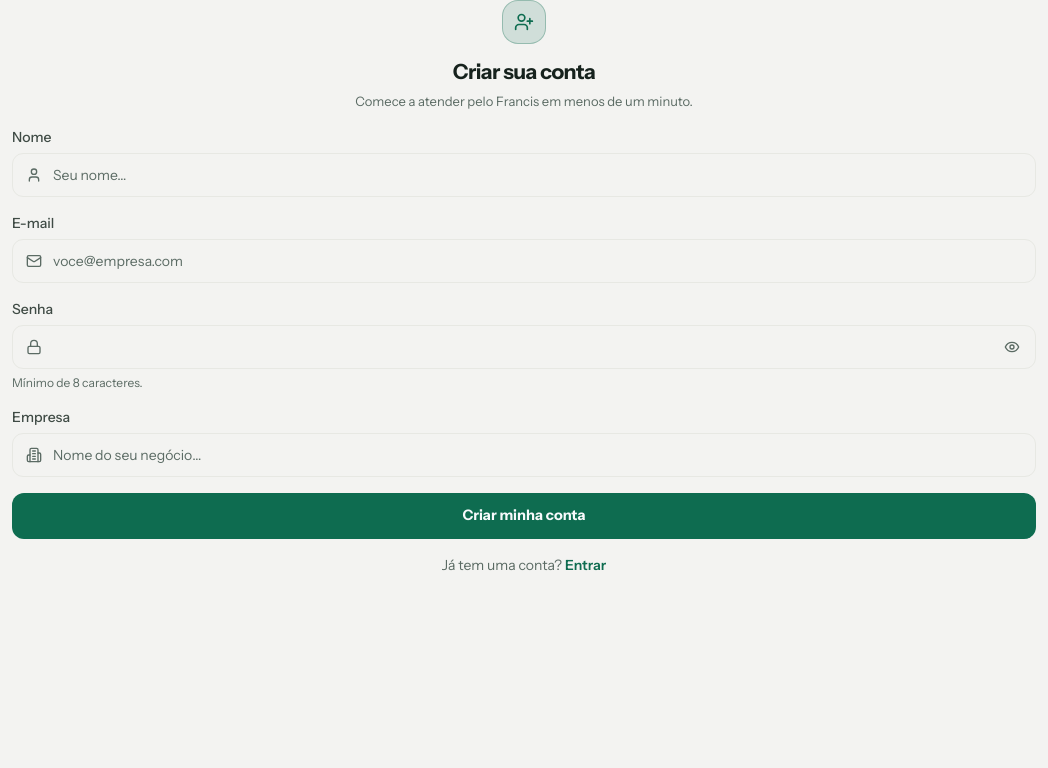
Test case: RegisterForm (Fase Auth/Registro) › mostra mensagem de erro quando o e-mail ja esta em uso (409)
Type "Maria" into the field labelled "Nome" at coordinates (524, 175), box left=12, top=153, right=1036, bottom=197
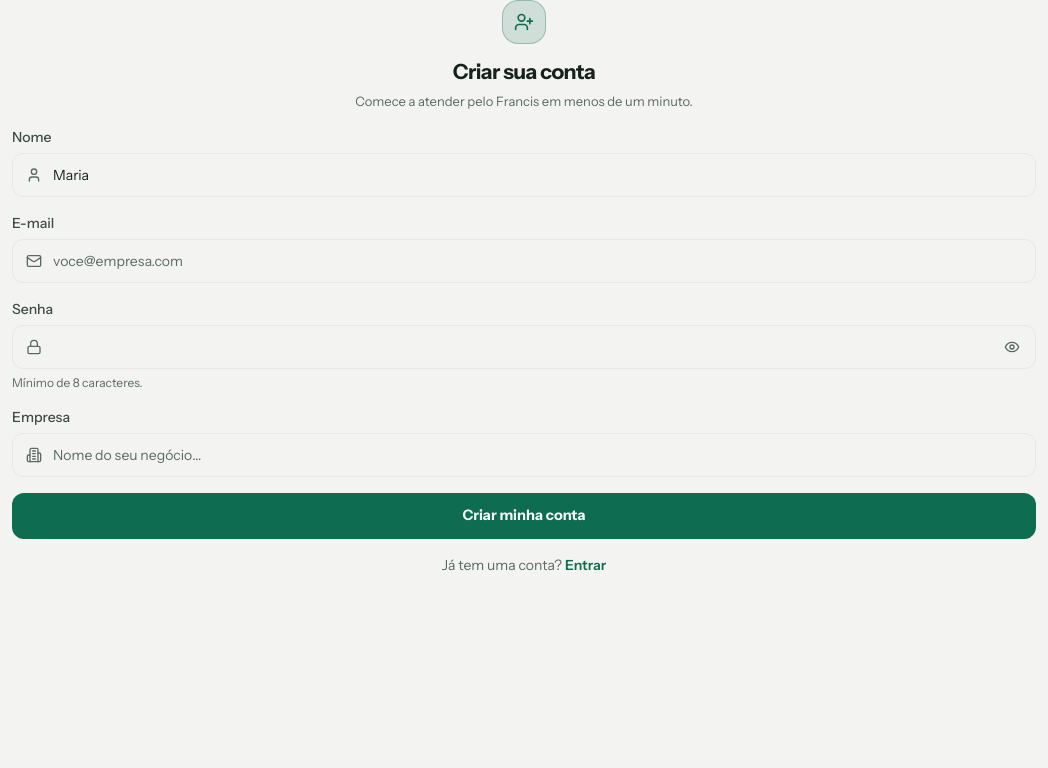
Type "a@b.com" into the field labelled "E-mail" at coordinates (524, 261), box left=12, top=239, right=1036, bottom=283
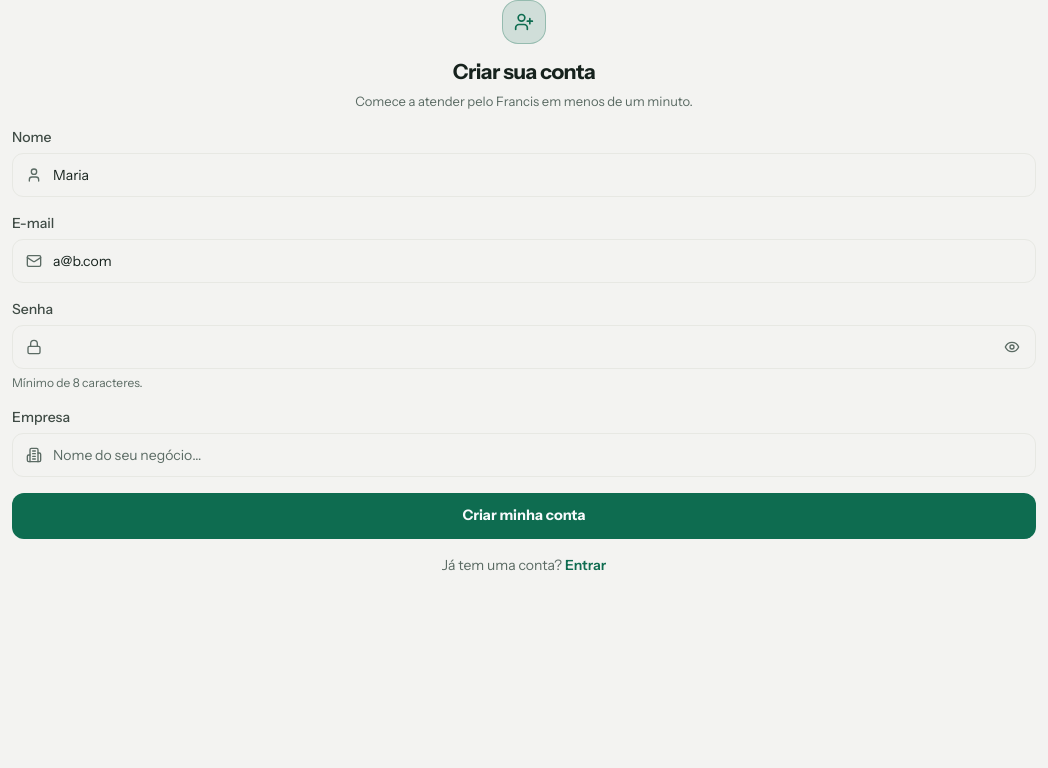
Type "senha-forte-123" into the password field labelled "Senha" at coordinates (524, 347), box left=12, top=325, right=1036, bottom=369
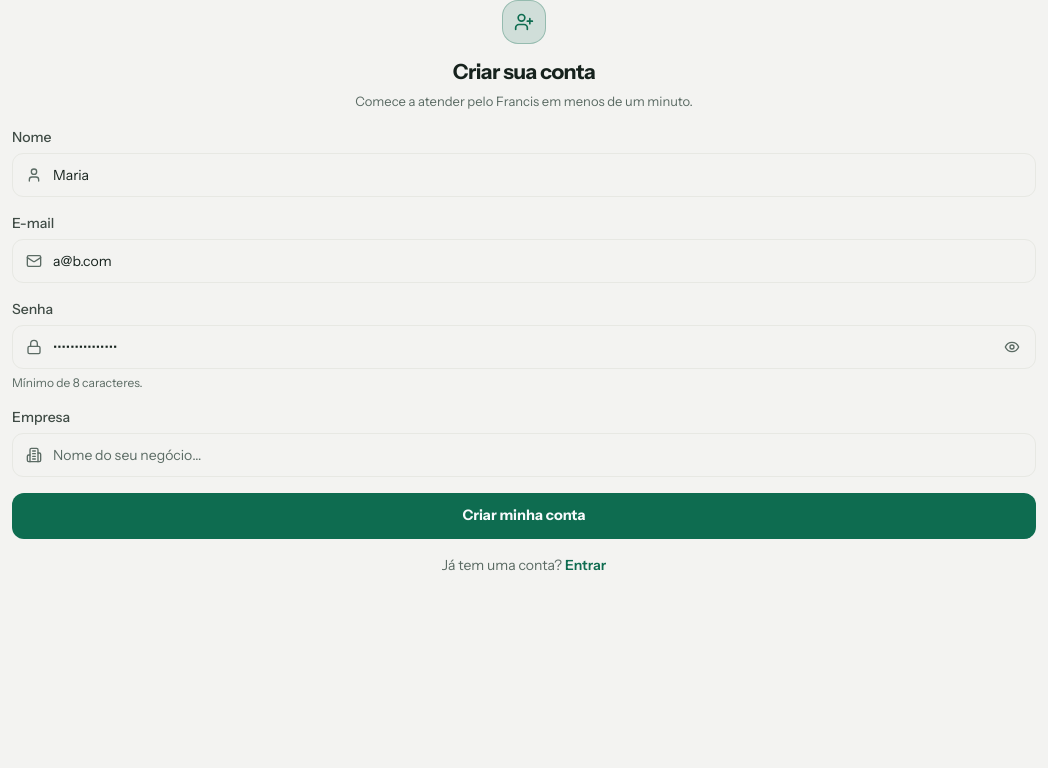
Type "Minha Empresa" into the field labelled "Empresa" at coordinates (524, 455), box left=12, top=433, right=1036, bottom=477
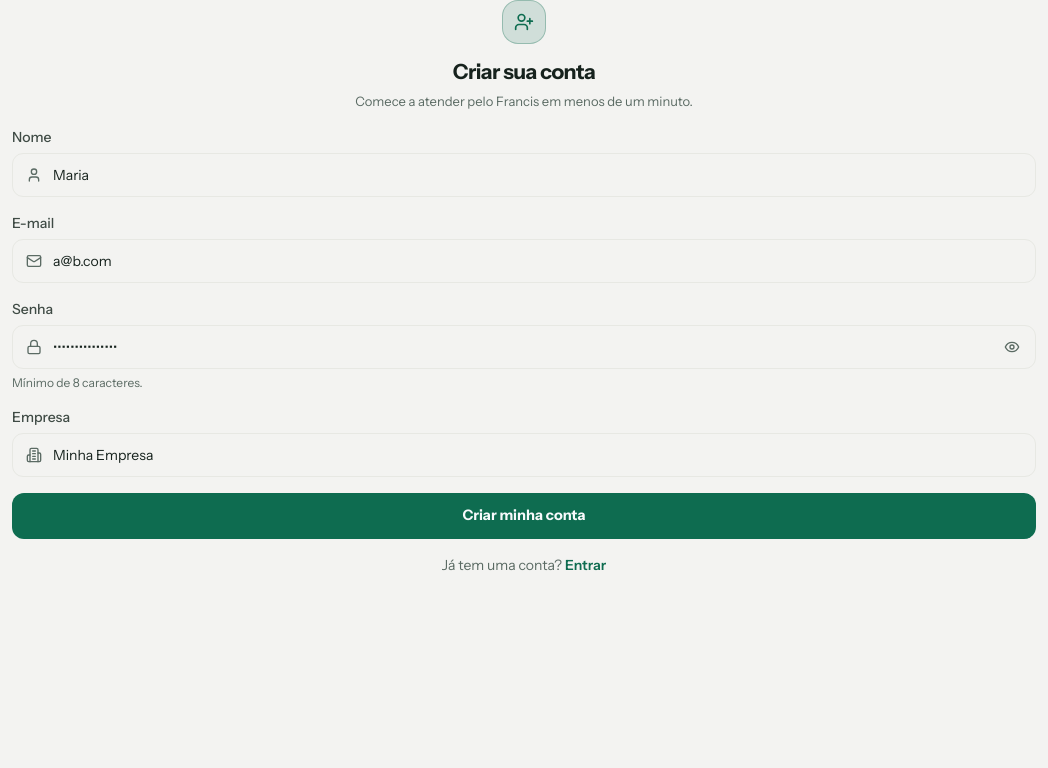
Click the button "Criar minha conta" at coordinates (524, 516), box left=12, top=493, right=1036, bottom=539
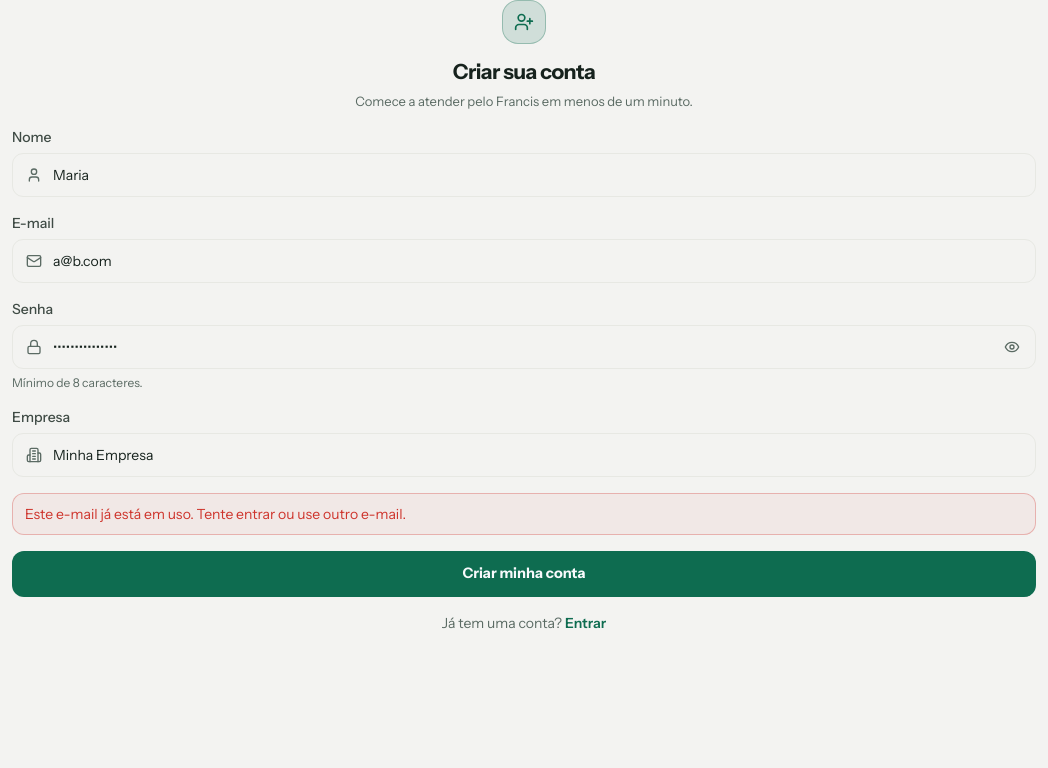
Check: the text "Este e-mail já está em uso. Tente entrar ou use outro e-mail." is shown, box left=12, top=493, right=1036, bottom=535
